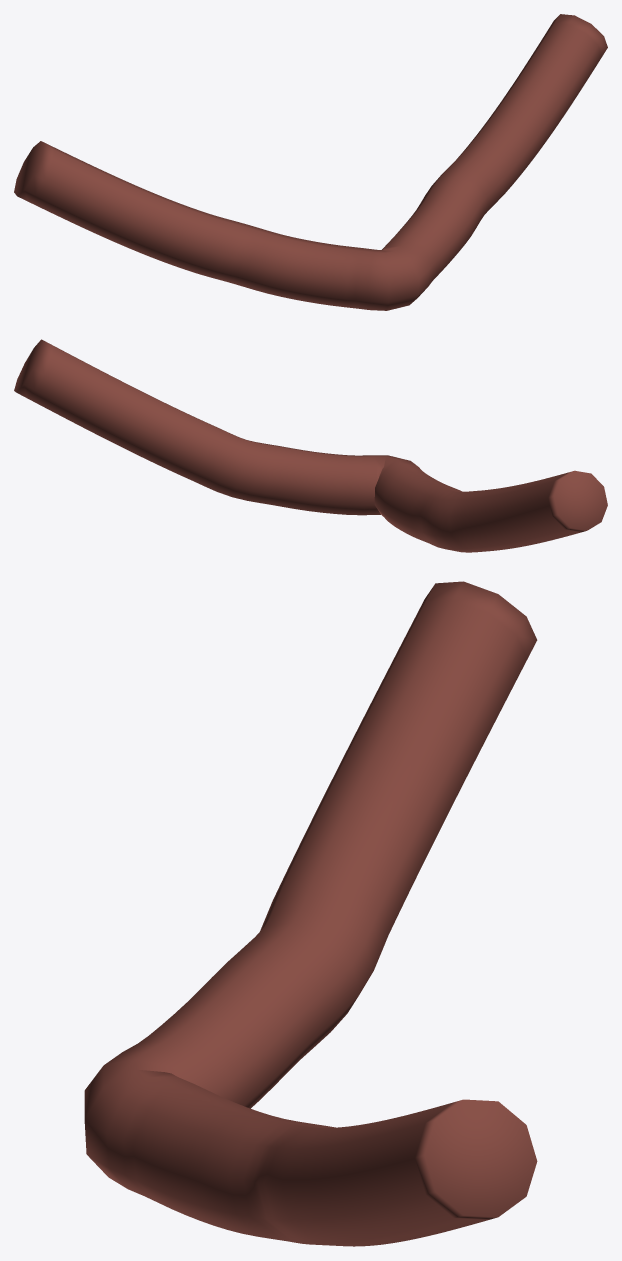
File: 2HT-masculino.glb
3 views of the same model, one above another, from view 1: azimuth 30°, elevation 25°; view 2: azimuth 150°, elevation 25°; view 3: azimuth 270°, elevation 25° (orthographic). The views are drawn at different scales.
Visible parts, largest first — view 1: mouth-relief; view 2: mouth-relief; view 3: mouth-relief.
Boxes of the visible parts, left/top/right/bottom form: mouth-relief: left=14, top=14, right=607, bottom=310; mouth-relief: left=14, top=339, right=607, bottom=552; mouth-relief: left=84, top=581, right=537, bottom=1246.
Bounding box in the file's own units: 0.0143 × 0.00391 × 0.00479.
